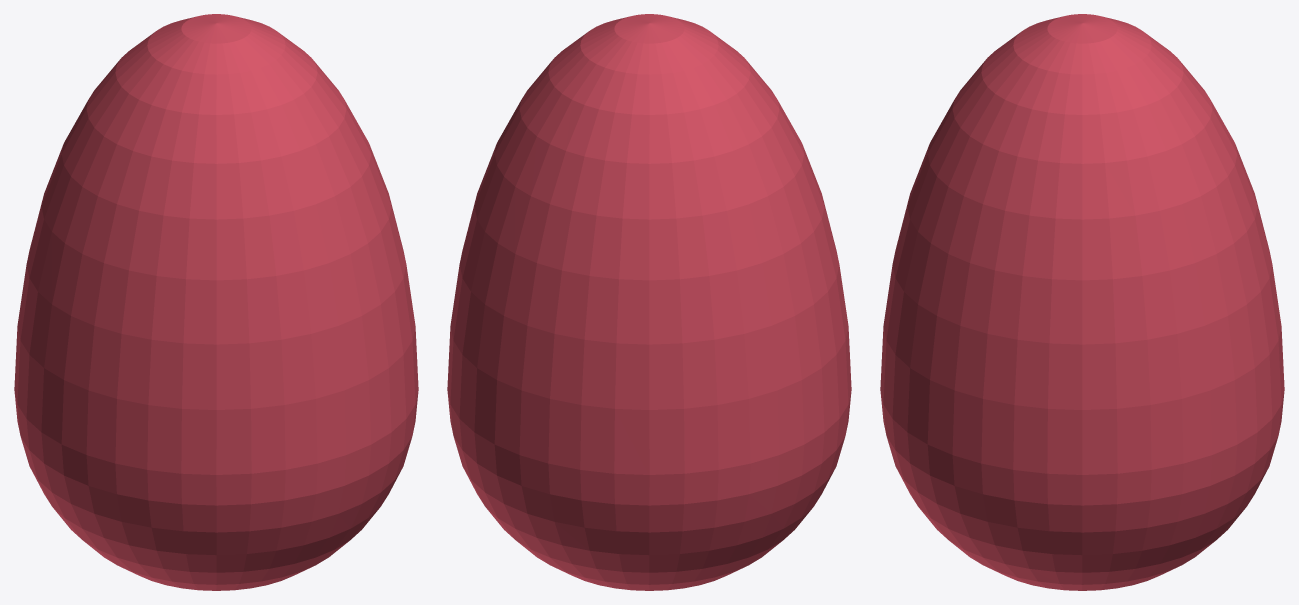
Rendered from 不倒翁.glb.
The picture shows the model from 3 angles, left to right: view 1: azimuth 30°, elevation 25°; view 2: azimuth 150°, elevation 25°; view 3: azimuth 270°, elevation 25°; orthographic projection.
Parts seen in each view (by area): view 1: Mesh_Mesh_head_geo.001_lambert2SG.001; view 2: Mesh_Mesh_head_geo.001_lambert2SG.001; view 3: Mesh_Mesh_head_geo.001_lambert2SG.001.
Part boxes in pixels (bbox=[...]): Mesh_Mesh_head_geo.001_lambert2SG.001: bbox=[14, 14, 418, 590]; Mesh_Mesh_head_geo.001_lambert2SG.001: bbox=[447, 14, 851, 590]; Mesh_Mesh_head_geo.001_lambert2SG.001: bbox=[880, 14, 1284, 590].
Bounding box in the file's own units: 0.02 × 0.03 × 0.02.
